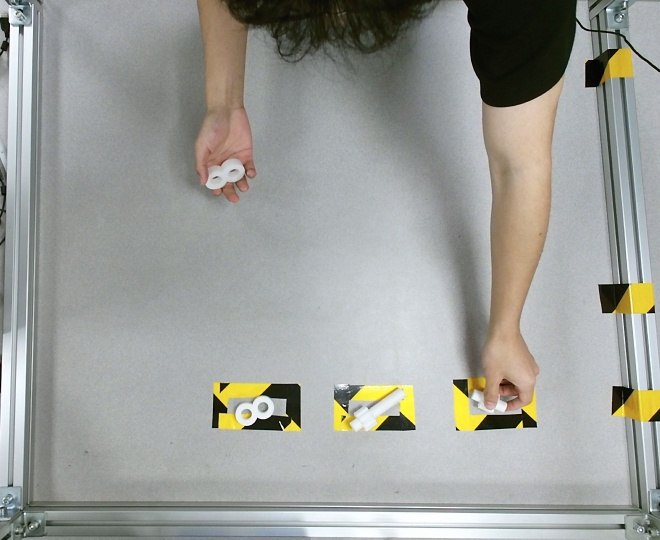stage_1: (203, 157, 245, 191)
